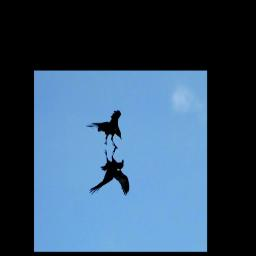Crow: (88, 145, 130, 196)
